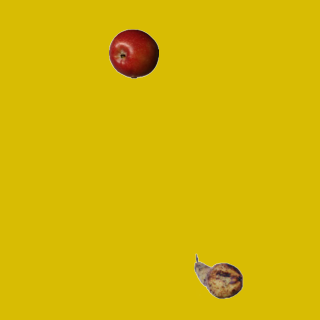Apple Braeburn: (108, 28, 158, 78)
Pear Abate: (193, 251, 243, 301)
